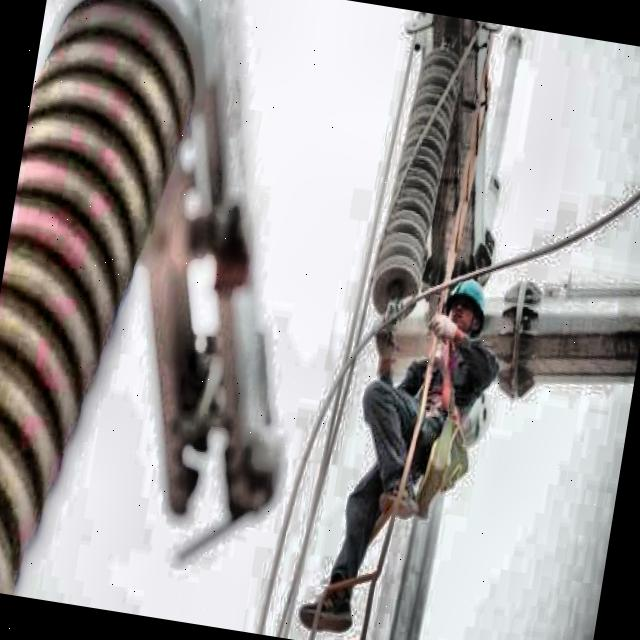helmet: (436, 269, 495, 349)
